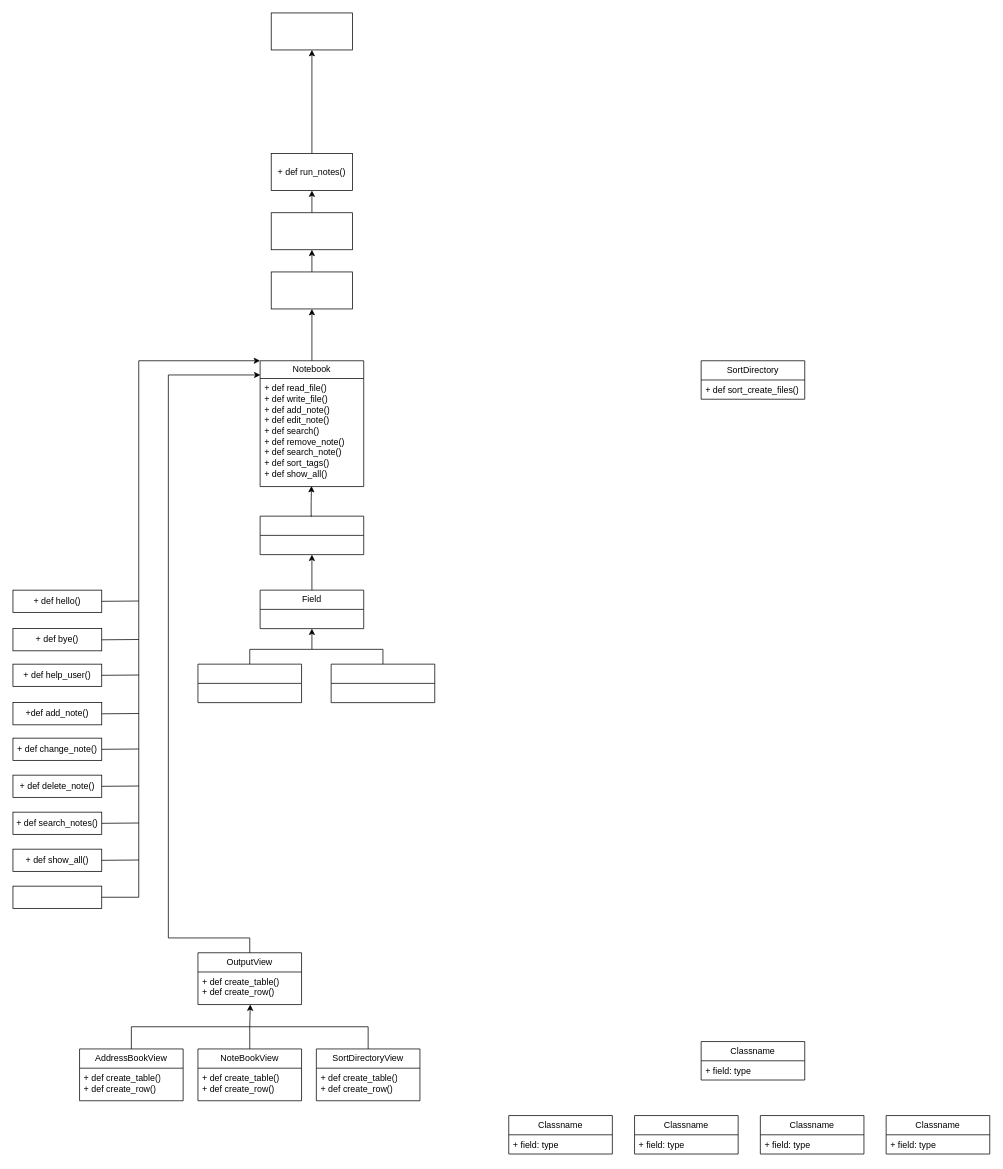
The diagram is 1003 pixels wide and 1169 high, and some of its shapes have lost their labels. The centre of each missing label's shape, as x and y in pixels:
"+ def parse_command()" belongs at point 311,290.
"+ def run_bot()" belongs at point 311,231.
"+ def sort_tags()" belongs at point 57,896.
"def menu()" belongs at point 311,31.
"Note" belongs at point 382,683.
"Record" belongs at point 311,535.
"Tag" belongs at point 249,683.
